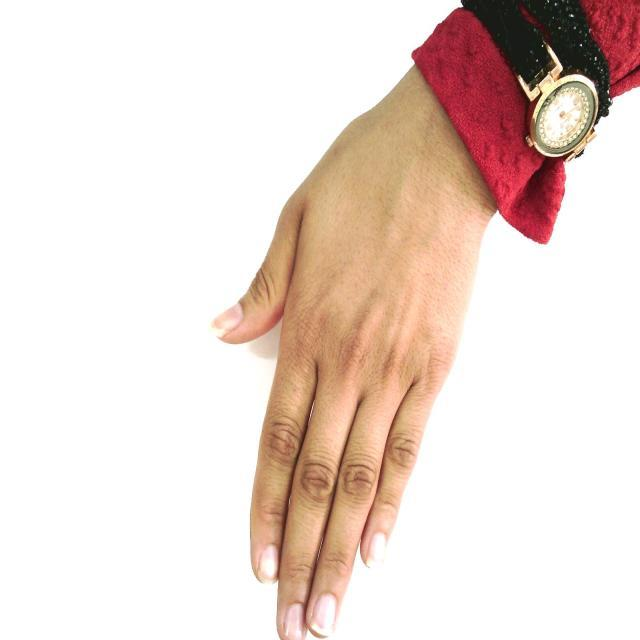Fingernail: (309, 594, 336, 636), (281, 604, 306, 639), (212, 304, 242, 332), (258, 546, 277, 582), (367, 533, 386, 563)
